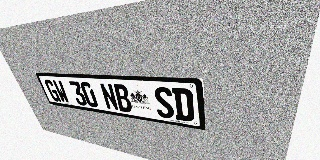0: (79, 82, 99, 108)
3: (68, 81, 88, 106)
B: (112, 84, 133, 113)
D: (172, 88, 194, 122)
G: (43, 79, 62, 102)
N: (99, 83, 119, 111)
S: (153, 86, 175, 119)
W: (52, 80, 71, 103)
